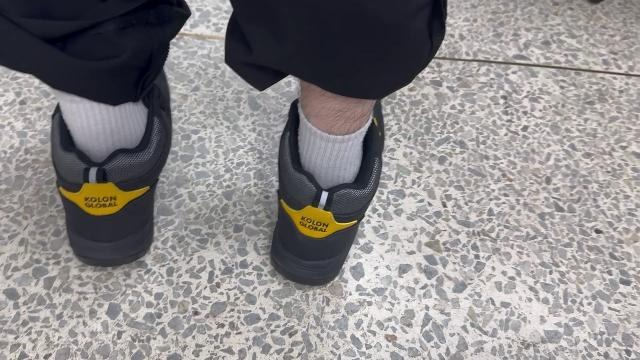shoe_worn: (263, 84, 396, 285), (48, 62, 175, 266)
